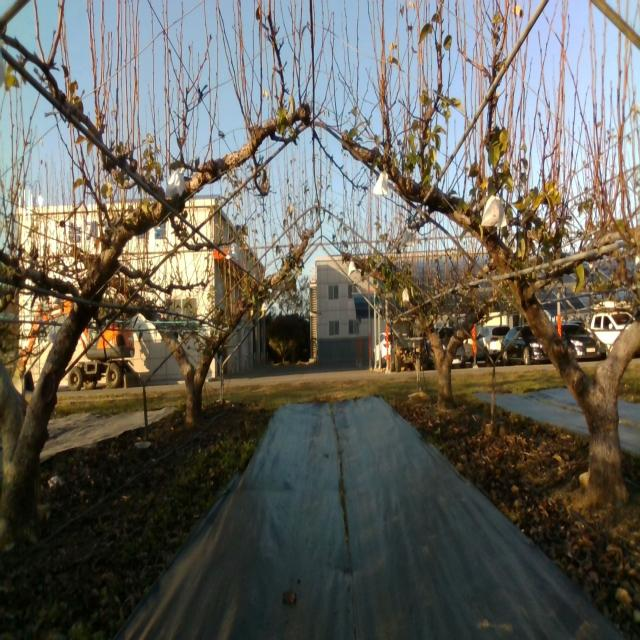pearbags: (481, 195, 506, 228), (165, 170, 185, 198), (372, 168, 388, 196), (225, 242, 241, 264), (400, 227, 416, 248)
